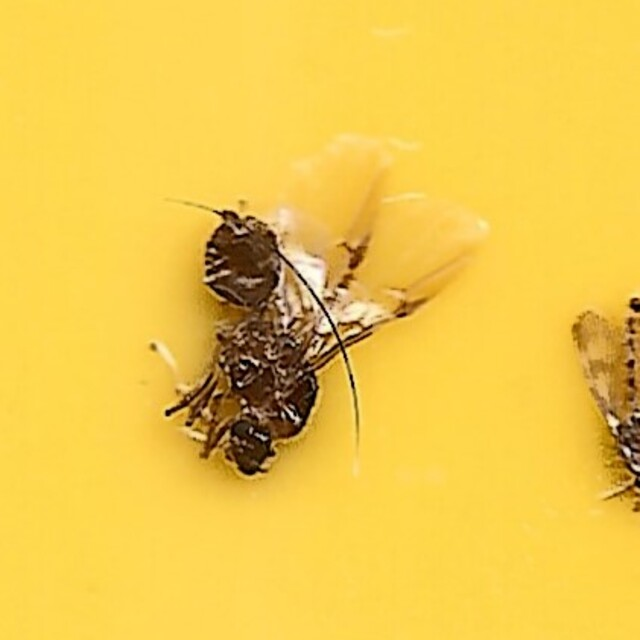Brachycera: (152, 162, 488, 478)
